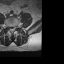CCS_stenosis: (11, 25, 12, 33)
LFS_normal: (14, 24, 16, 30)
LLS_normal: (12, 25, 14, 32)
RFS_normal: (7, 24, 9, 30)
RLS_normal: (9, 25, 11, 33)
